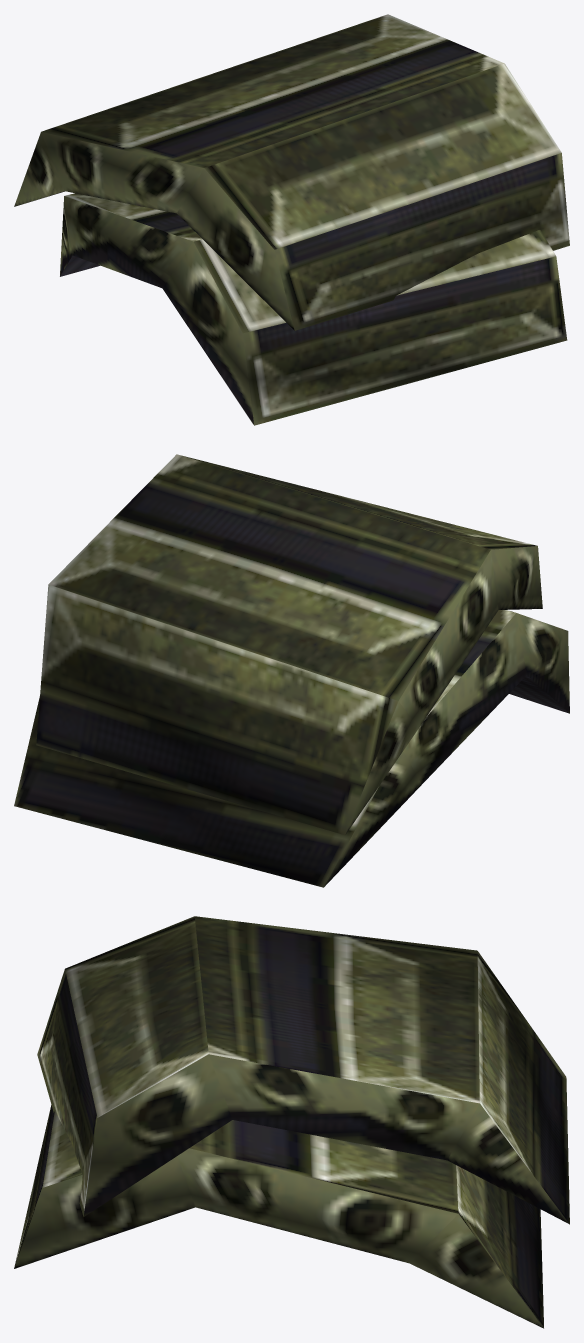
File: ShoulderPads5__FDC.glb
The picture shows the model from 3 angles, top to bottom: view 1: azimuth 30°, elevation 25°; view 2: azimuth 150°, elevation 25°; view 3: azimuth 270°, elevation 25°; orthographic projection. The views are drawn at different scales.
Visible parts, largest first — view 1: ShoulderPads5; view 2: ShoulderPads5; view 3: ShoulderPads5.
Part boxes in pixels (x1,y1,x2,y2): ShoulderPads5: [14, 14, 569, 425]; ShoulderPads5: [14, 454, 569, 887]; ShoulderPads5: [14, 916, 569, 1328].
Bounding box in the file's own units: 8.51 × 5.51 × 10.
1 material, 1 textured.
